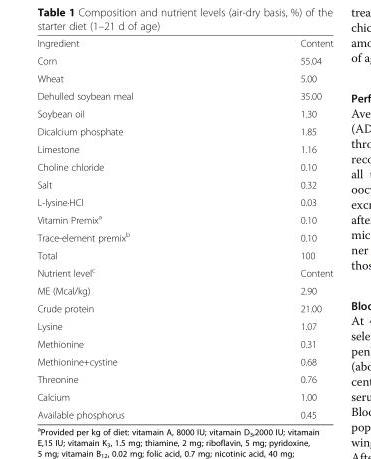table: (36, 37, 332, 420)
table column: (36, 37, 216, 420), (216, 37, 332, 420)
table row: (36, 227, 332, 246), (36, 51, 332, 69), (36, 86, 332, 104), (36, 104, 332, 122), (36, 122, 332, 140), (36, 157, 332, 175), (36, 175, 332, 193), (36, 263, 332, 281), (36, 281, 332, 299), (36, 299, 332, 317), (36, 334, 332, 352), (36, 352, 332, 370), (36, 387, 332, 405), (36, 69, 332, 86), (36, 140, 332, 157), (36, 193, 332, 210), (36, 210, 332, 227), (36, 246, 332, 263), (36, 317, 332, 334), (36, 370, 332, 387), (36, 405, 332, 420), (36, 37, 332, 51)
